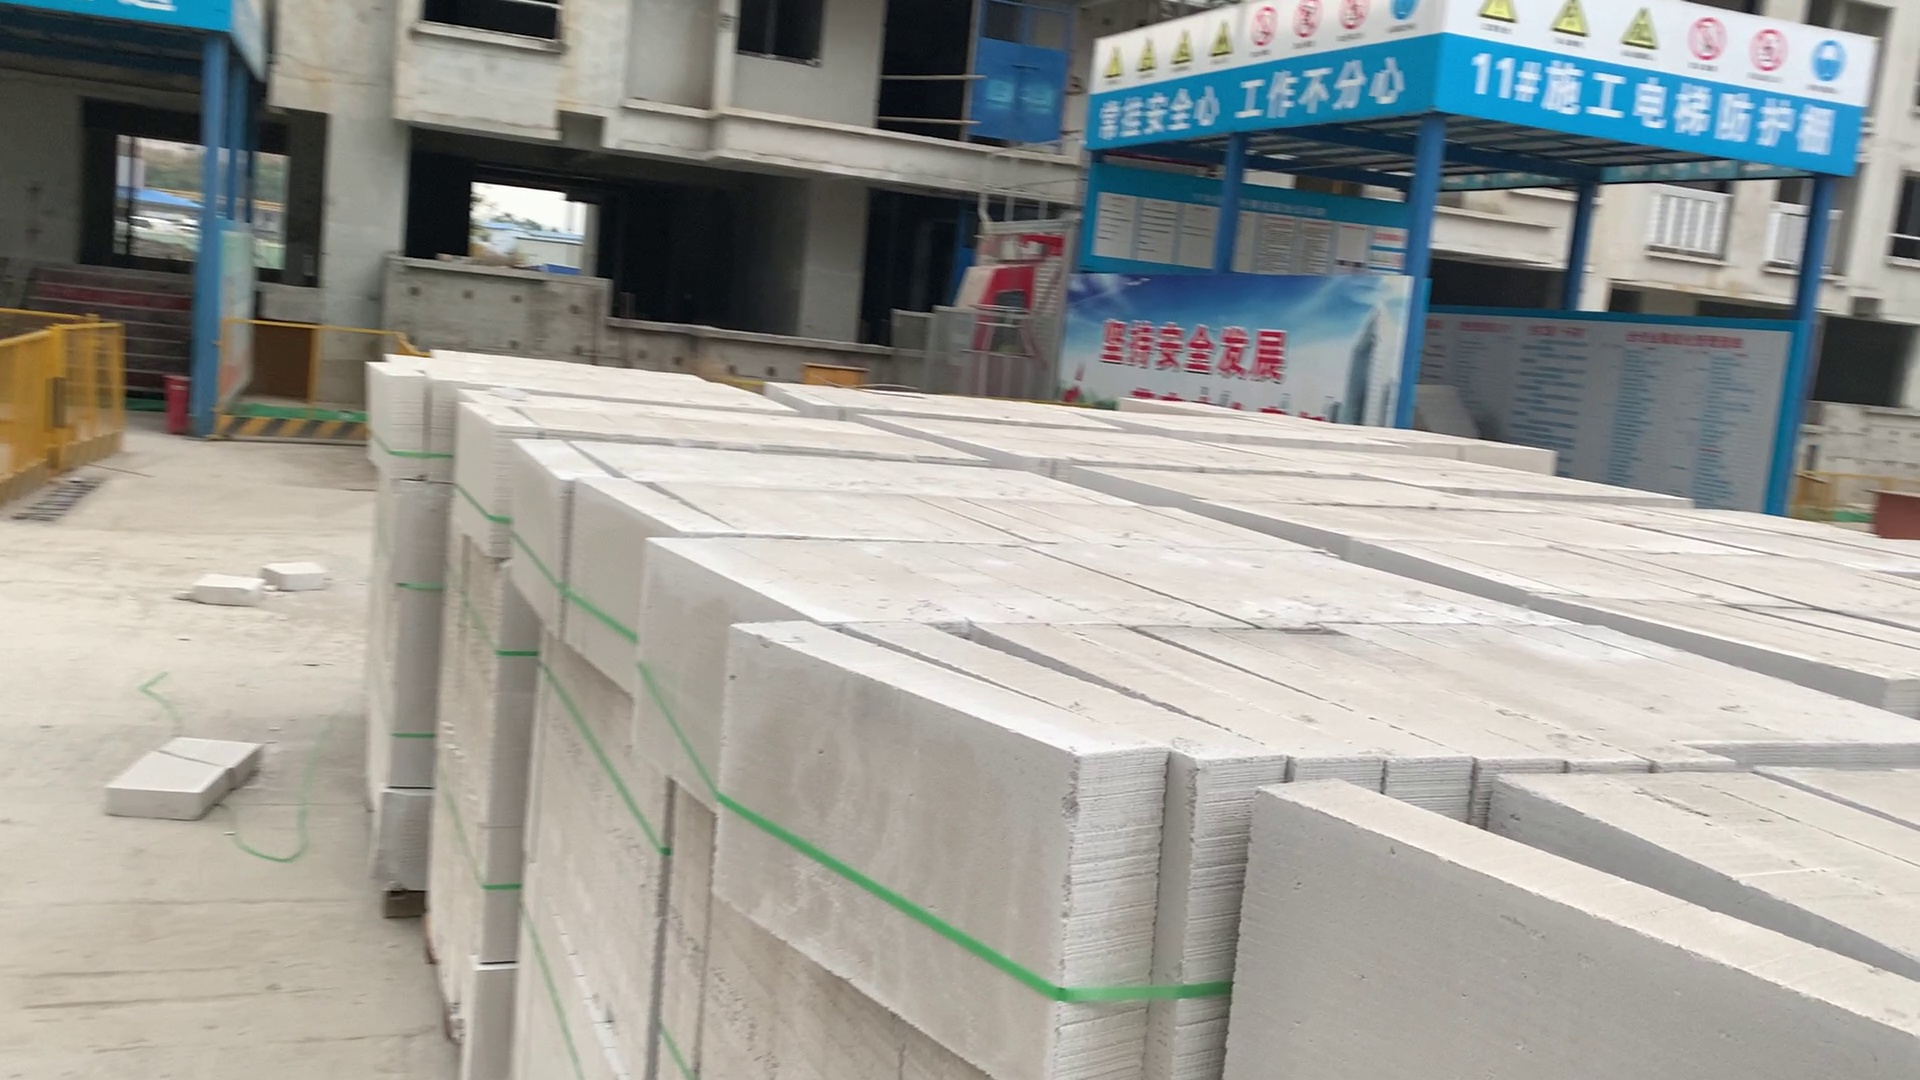brickwork: (727, 620, 1920, 758), (1358, 534, 1920, 688), (646, 542, 1576, 622), (583, 477, 1317, 545), (520, 435, 1135, 502), (465, 388, 982, 462), (1232, 498, 1766, 558), (372, 342, 793, 411), (857, 414, 1315, 475), (1065, 465, 1545, 512), (767, 378, 1120, 434)
